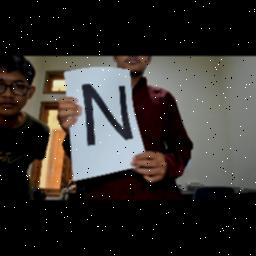n: (78, 79, 138, 151)
